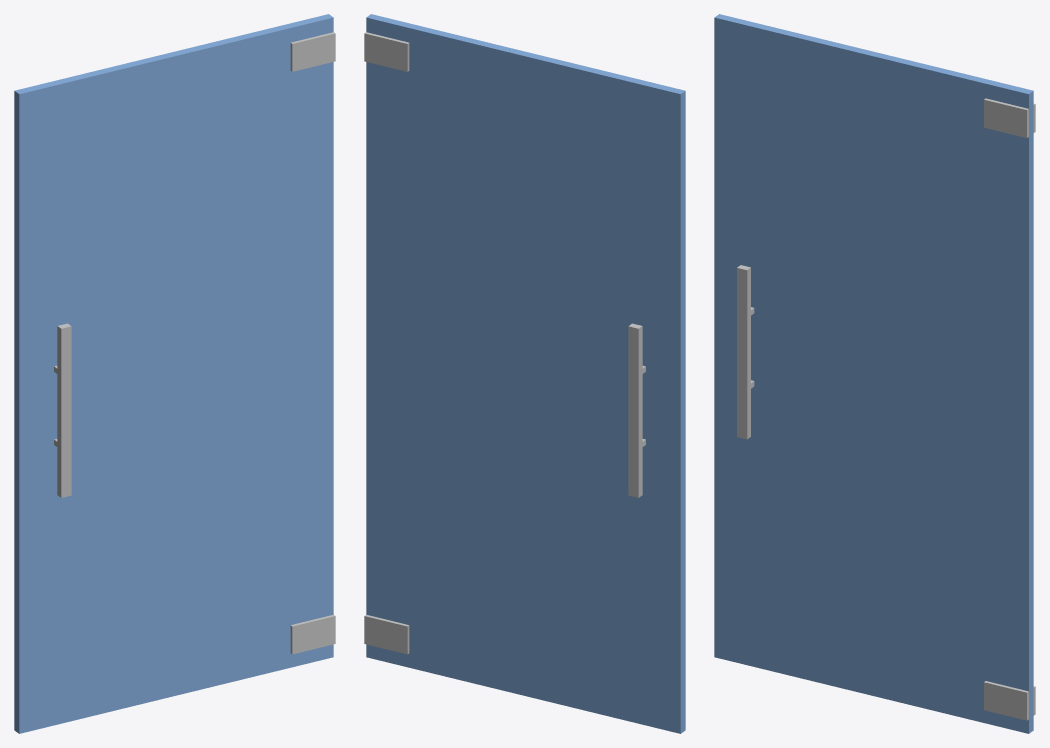
The model's file is GlassDoor.fbx.
The picture shows the model from 3 angles, left to right: view 1: azimuth 30°, elevation 25°; view 2: azimuth 150°, elevation 25°; view 3: azimuth 330°, elevation 25°; orthographic projection.
Visible parts, largest first — view 1: GlassDoor; view 2: GlassDoor; view 3: GlassDoor.
Boxes of the visible parts, left/top/right/bottom form: GlassDoor: left=14, top=14, right=335, bottom=733; GlassDoor: left=364, top=14, right=685, bottom=733; GlassDoor: left=714, top=14, right=1035, bottom=733.
Size of the model in its own units: 113 by 219 by 15.11.
